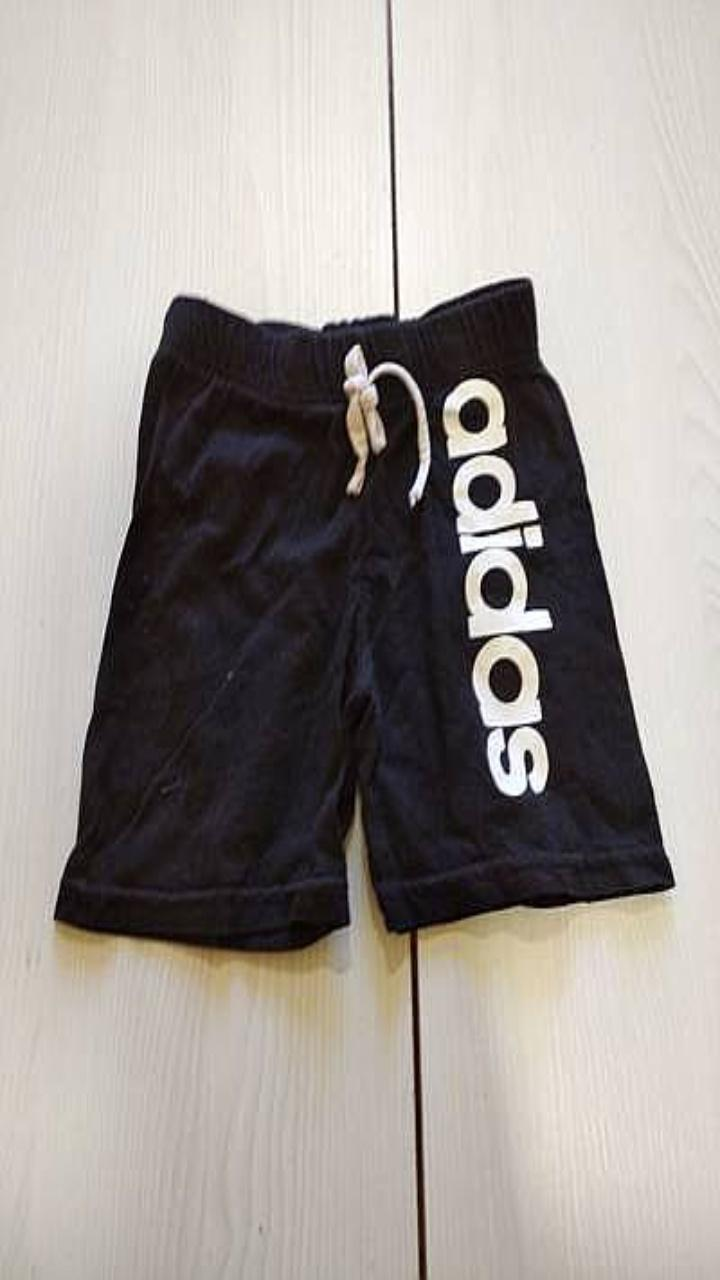Shorts: (54, 277, 673, 948)
